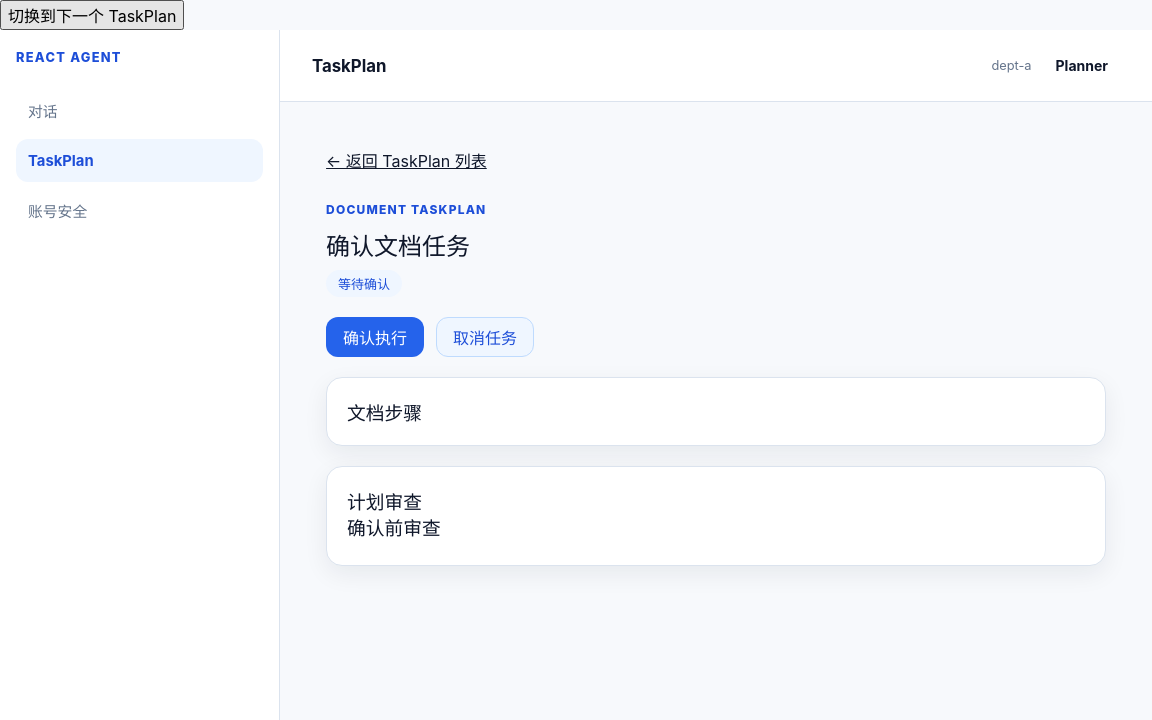
Test: TaskPlan workspace › confirms only through the stream and converges after the terminal event
Click the button "确认执行": (375, 337) [326,317,424,357]
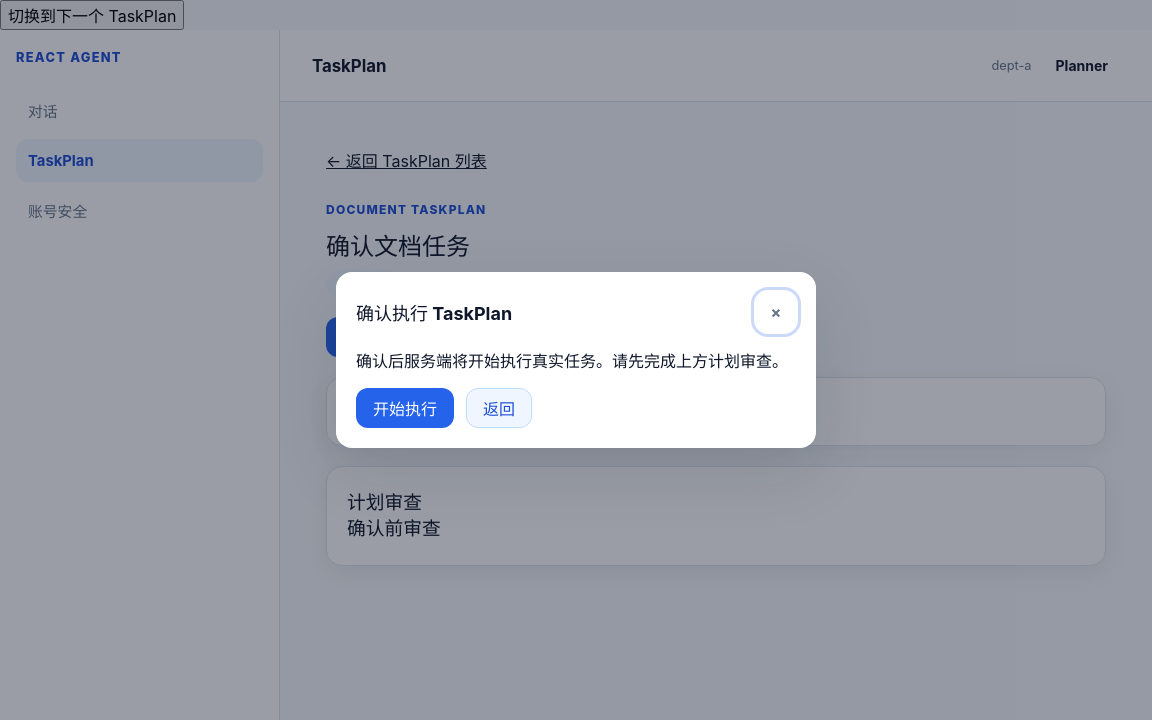
Expected: the dialog "确认执行 TaskPlan" is shown, [336,272,816,448]
Click the button "开始执行": (405, 408) [356,388,454,428]
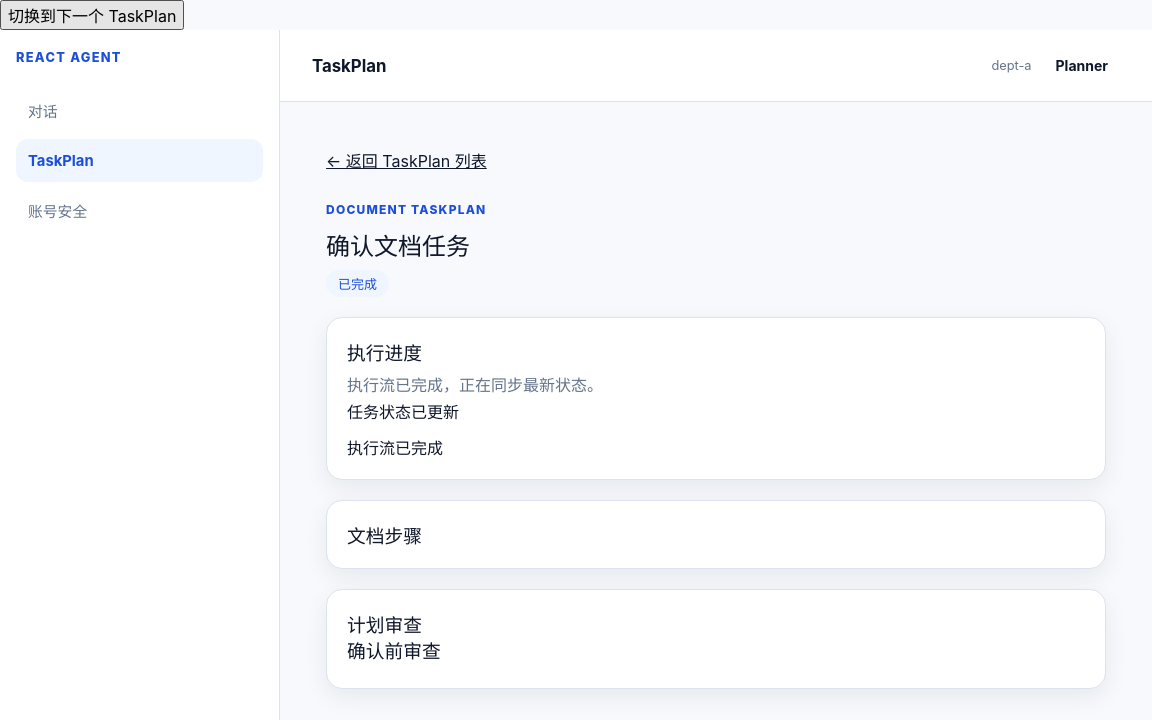
Expected: the text "已完成" is shown, [326,270,389,297]
Expected: the list named "TaskPlan 执行时间线" shows "任务状态已更新", [347,402,459,422]
Expected: the list named "TaskPlan 执行时间线" shows "执行流已完成", [347,438,443,458]
